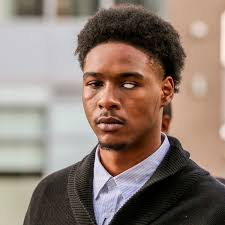no-mask: (73, 29, 176, 154)
